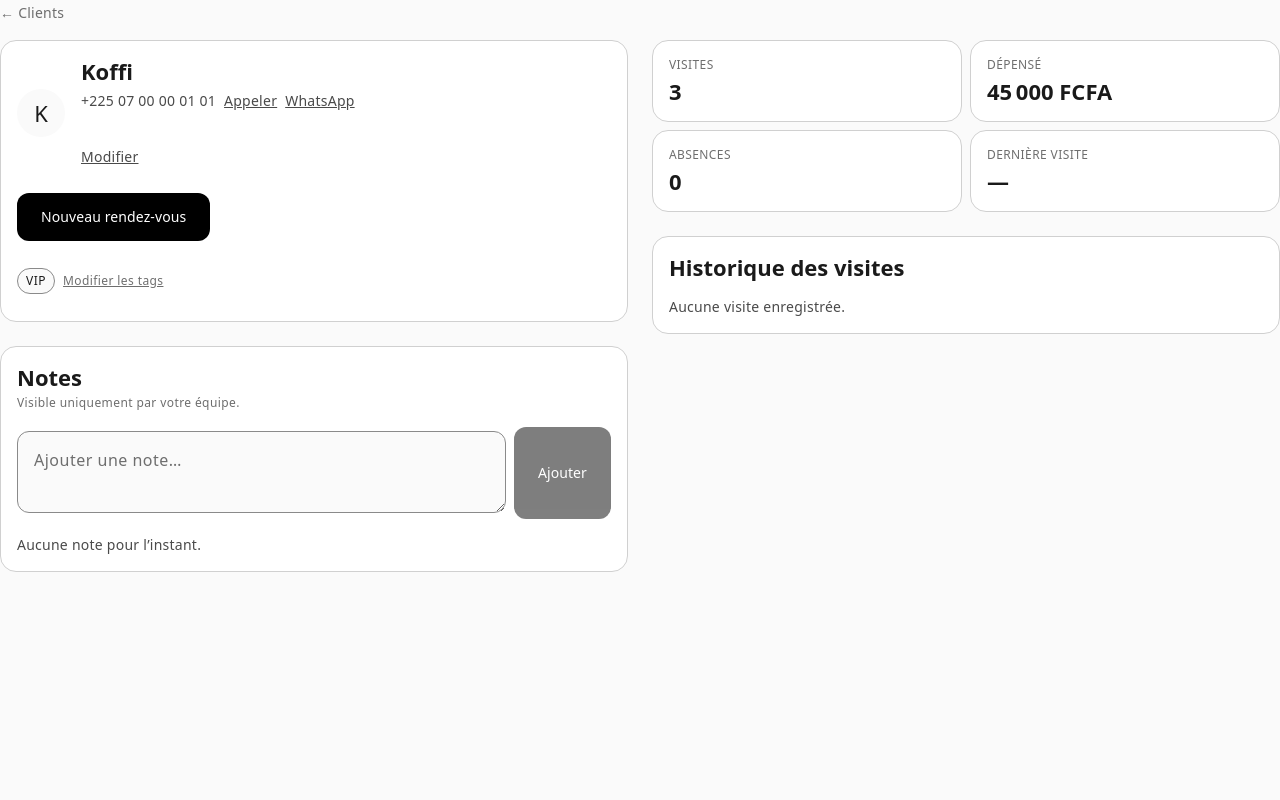
Test: ClientCardClient — « Modifier » the number of a GUEST card › a number already on another card names that card and leads to it
Expected: the heading "Koffi" is shown, x1=81 y1=56 x2=133 y2=86
Click the button with aria-label "Modifier le numéro" at (110, 157), box x1=81 y1=133 x2=138 y2=181
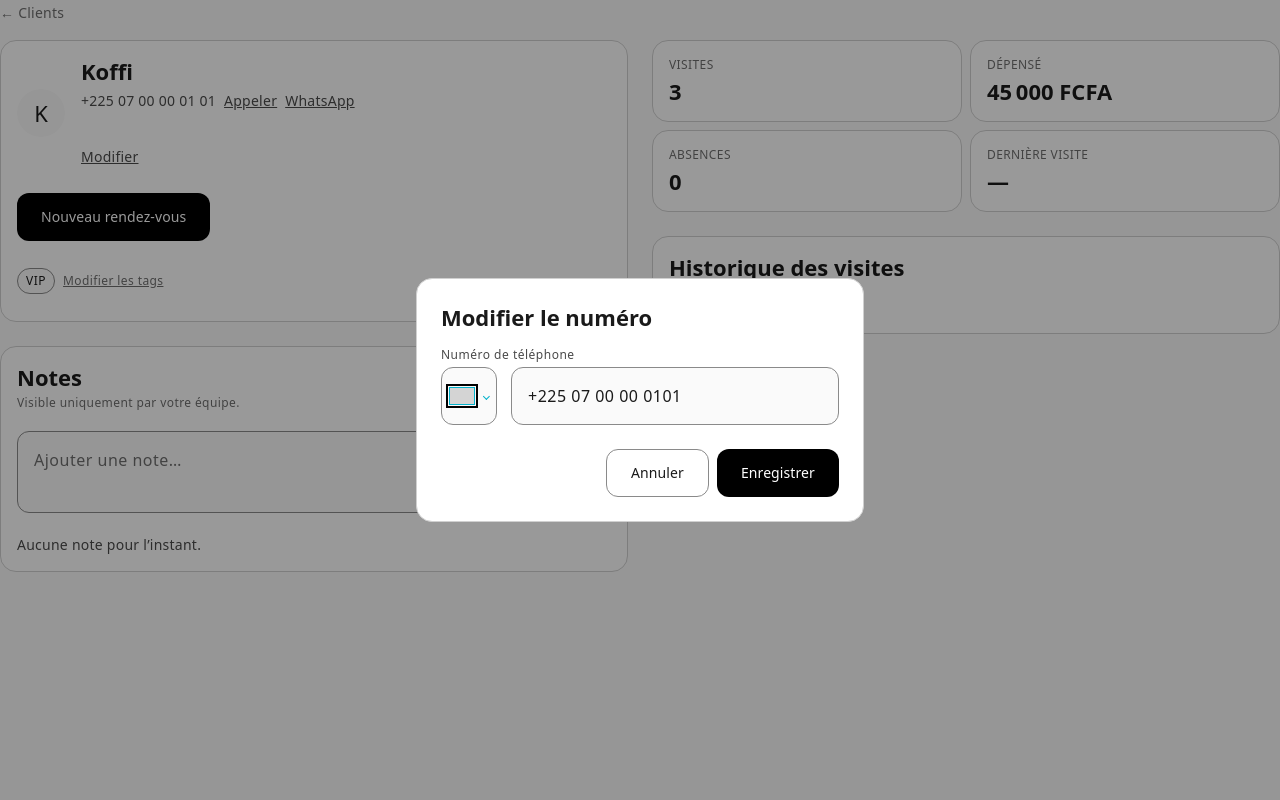
Replace the text in the field labelled "Numéro de téléphone" with "+2250707123456" at (675, 396), box x1=511 y1=367 x2=839 y2=425
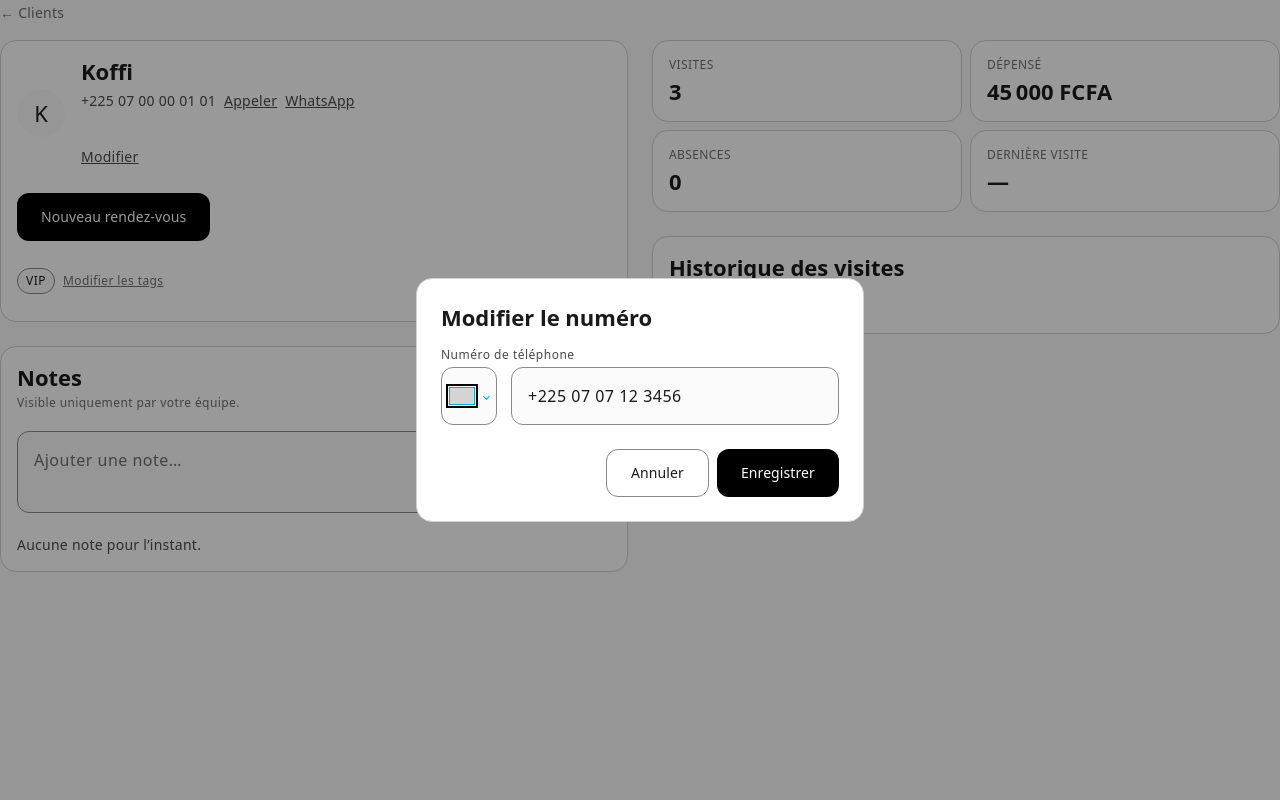
Click the button "Enregistrer" at (778, 473), box x1=717 y1=449 x2=839 y2=497
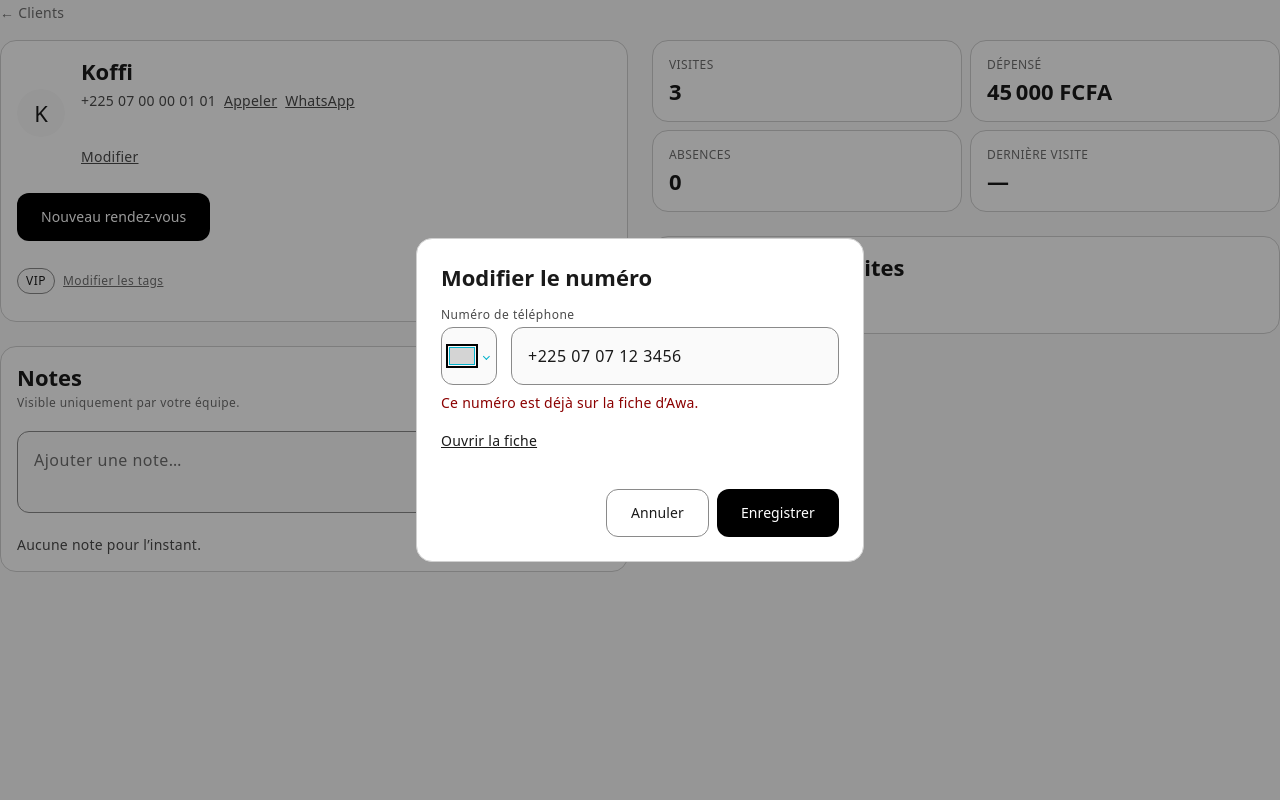
Replace the text in the field labelled "Numéro de téléphone" with "+2250505123456" at (675, 356), box x1=511 y1=327 x2=839 y2=385
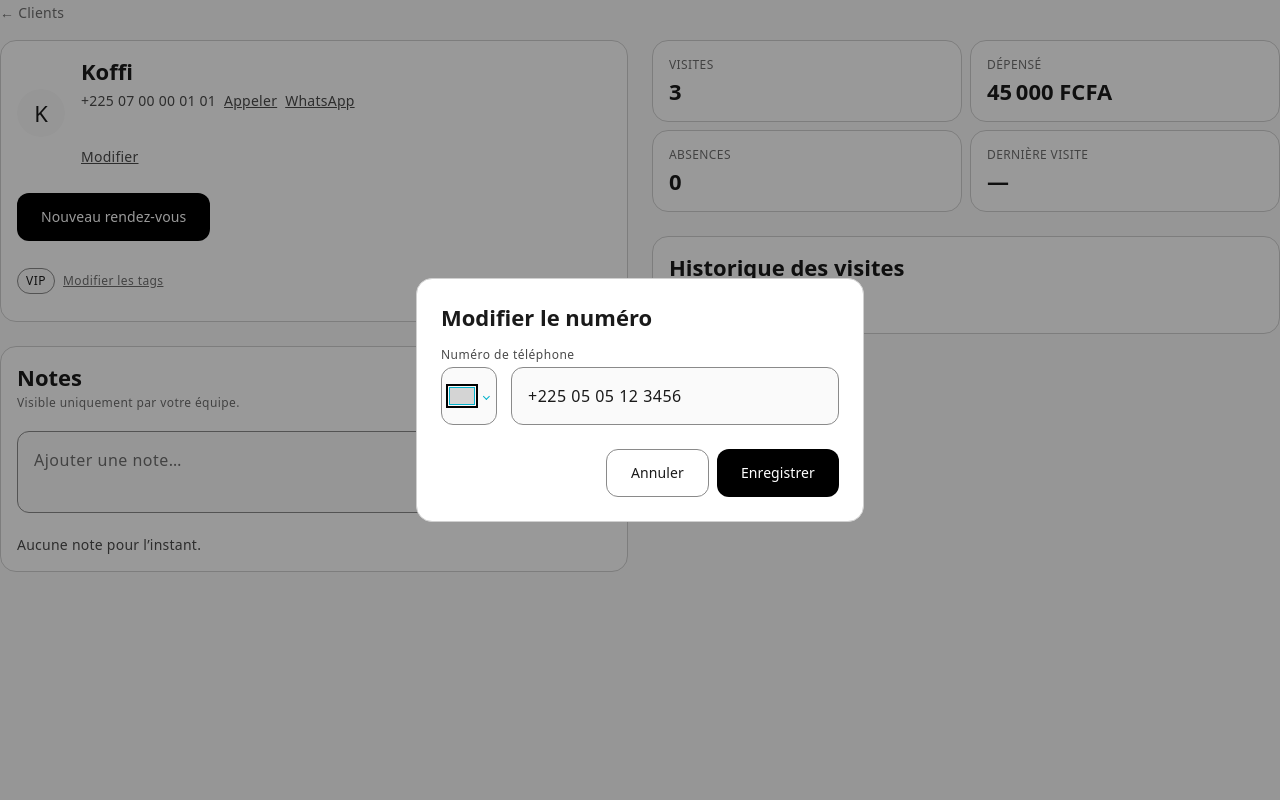
Expected: the text "Ce numéro est déjà sur la fiche d’Awa." is gone
Expected: the link "Ouvrir la fiche" is gone
